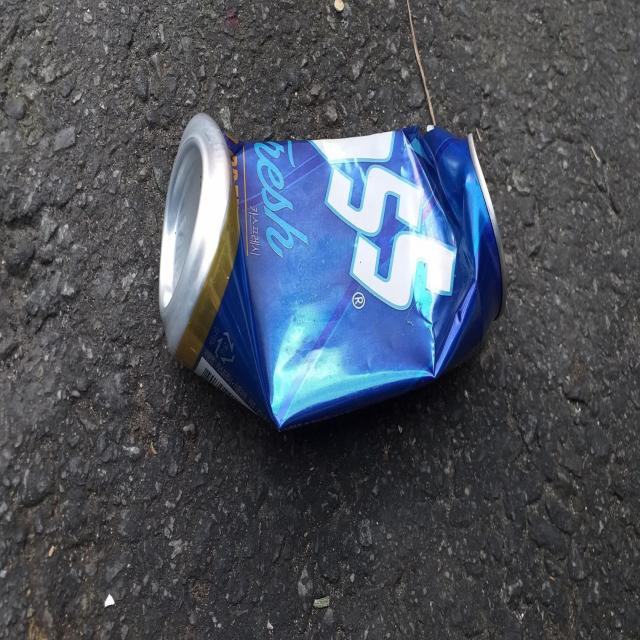can: (158, 112, 507, 427)
